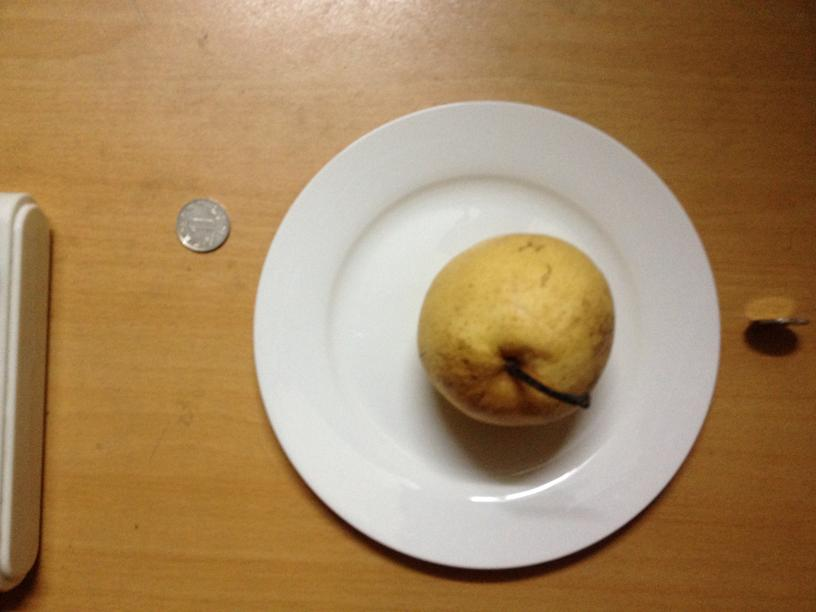coin: (172, 199, 229, 252)
pear: (159, 333, 231, 398)
